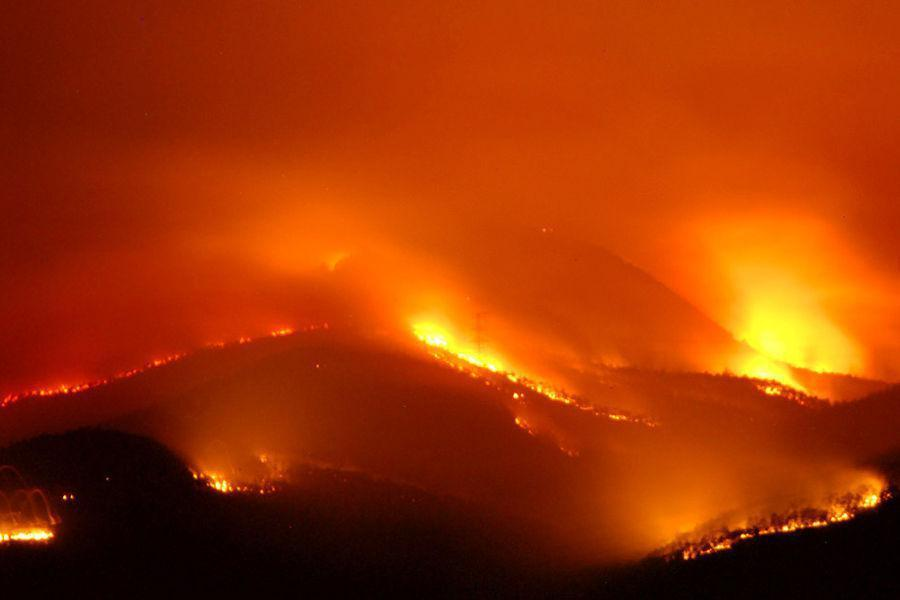fire: (406, 312, 640, 447), (0, 330, 312, 409), (654, 478, 892, 566), (719, 289, 858, 409), (188, 434, 295, 496), (1, 492, 60, 546)
